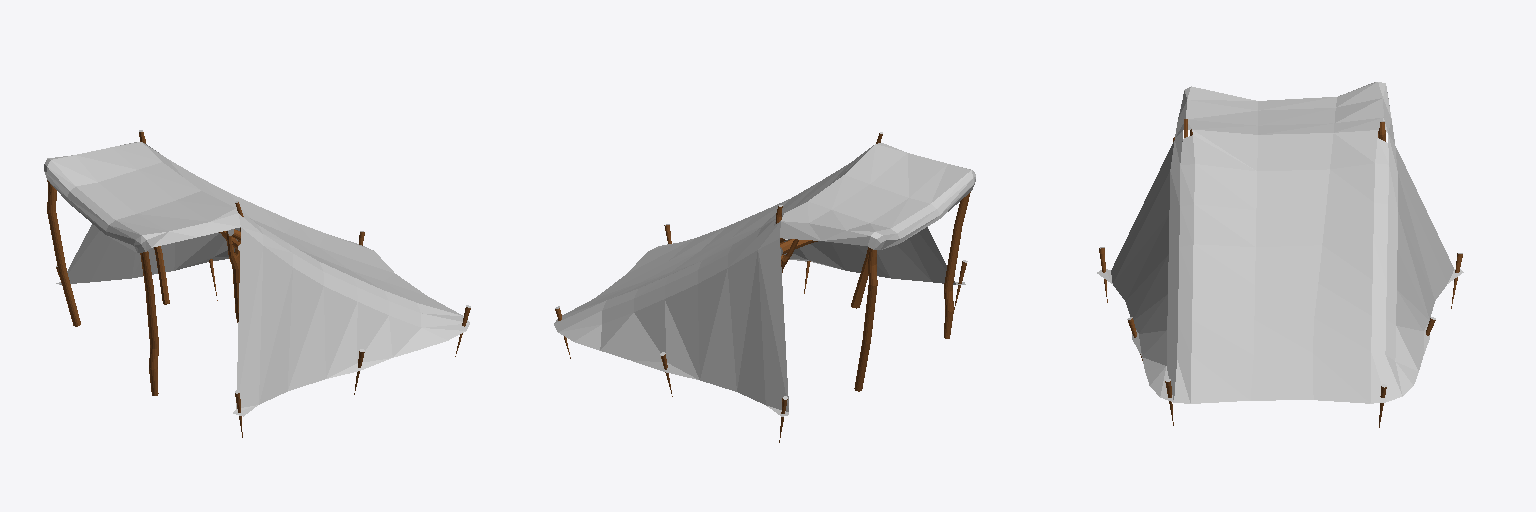
File: Tent_Leanto_2.obj
3 views of the same model, side by side, from view 1: azimuth 30°, elevation 25°; view 2: azimuth 150°, elevation 25°; view 3: azimuth 270°, elevation 25° (orthographic).
Visible parts, largest first — view 1: Plane.004_Plane.001, Plane.006, Cylinder.083_Cylinder.161, Cylinder.081_Cylinder.160, Cube.079_Cube.268; view 2: Plane.004_Plane.001, Plane.006, Cylinder.081_Cylinder.160, Cylinder.083_Cylinder.161; view 3: Plane.004_Plane.001, Plane.006.
Boxes of the visible parts, box(x1,y1,x2,y2) form: Plane.004_Plane.001: box(44, 142, 469, 416); Plane.006: box(45, 142, 469, 414); Cylinder.083_Cylinder.161: box(140, 251, 158, 395); Cylinder.081_Cylinder.160: box(47, 180, 80, 326); Cube.079_Cube.268: box(226, 201, 243, 322); Plane.004_Plane.001: box(554, 143, 975, 416); Plane.006: box(555, 143, 975, 416); Cylinder.081_Cylinder.160: box(854, 248, 877, 391); Cylinder.083_Cylinder.161: box(944, 192, 970, 338); Plane.004_Plane.001: box(1097, 82, 1461, 403); Plane.006: box(1099, 82, 1463, 403).
Bounding box in the file's own units: 4.02 × 2.47 × 3.89.